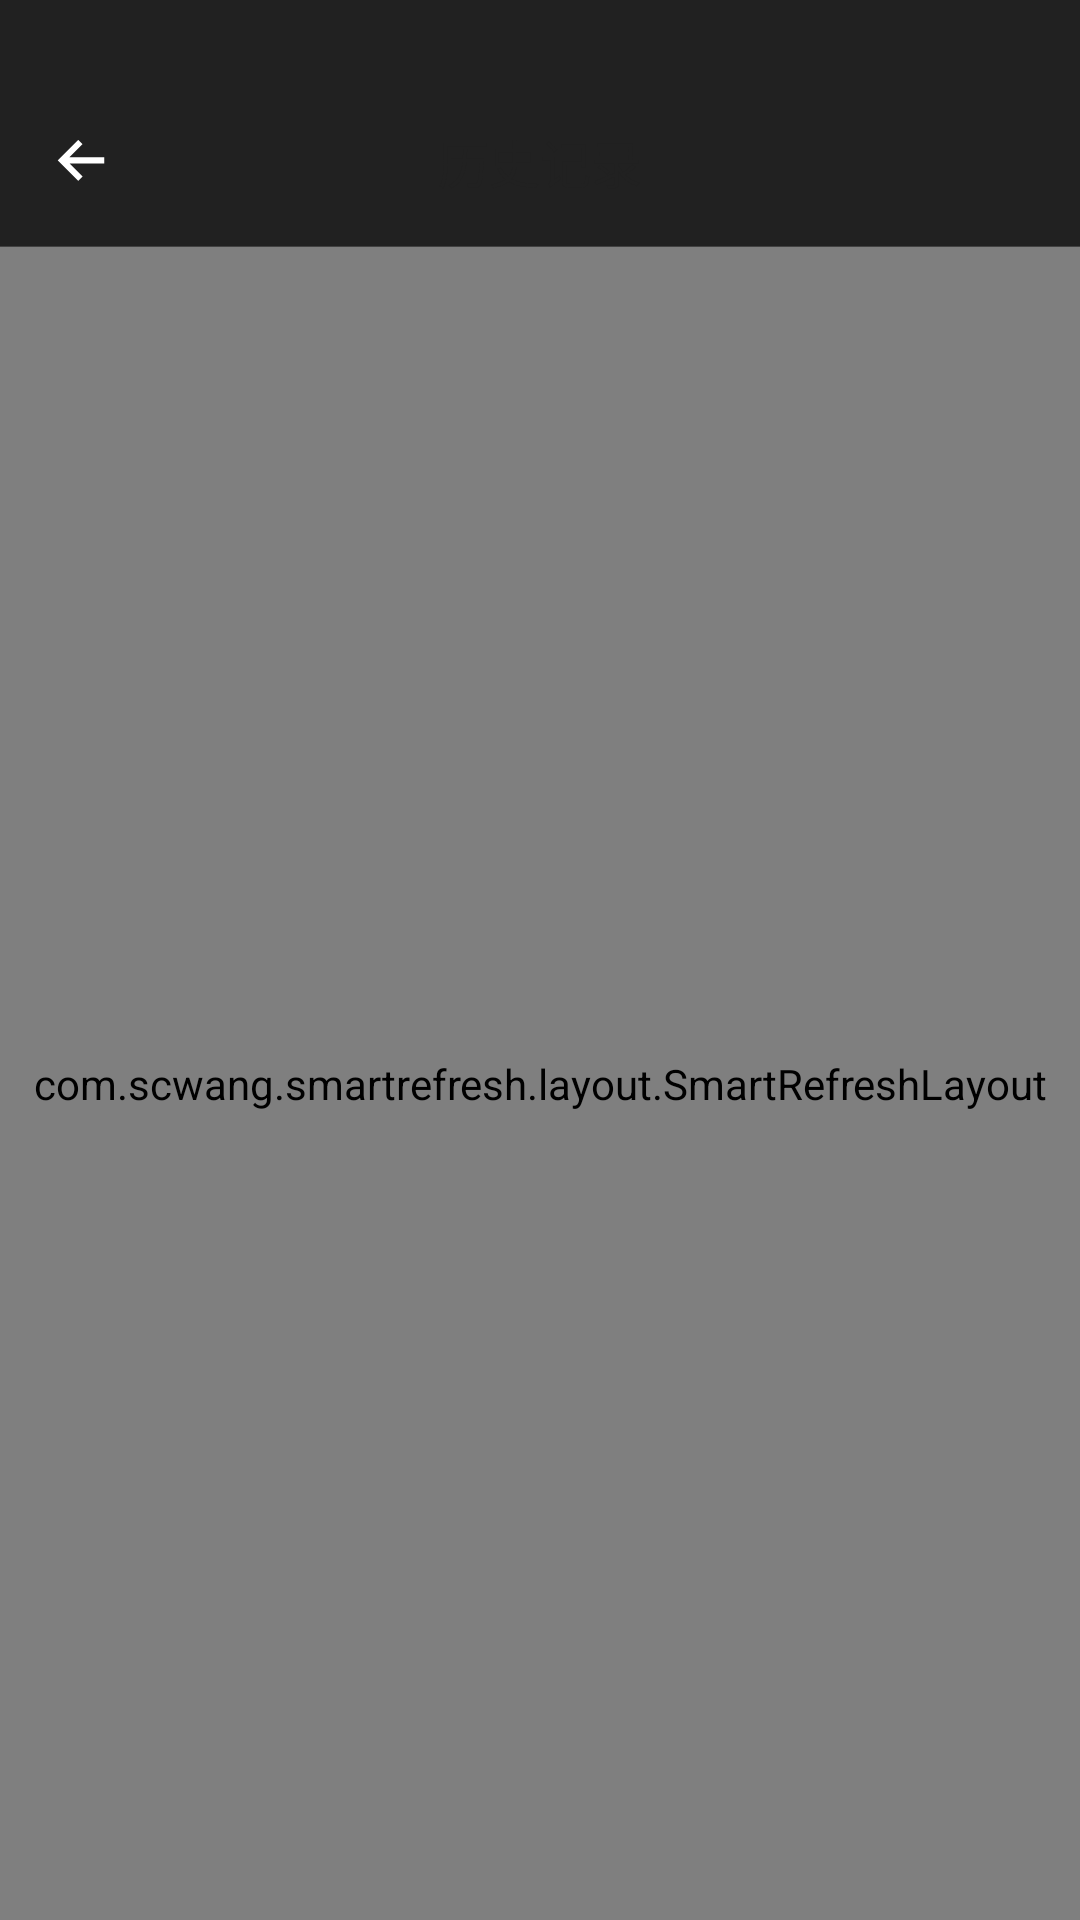

Locate icon controls on the screen. Image size 1080*1920, boxes as (x1, y1, x2, y2).
back: (58, 140, 105, 181)
